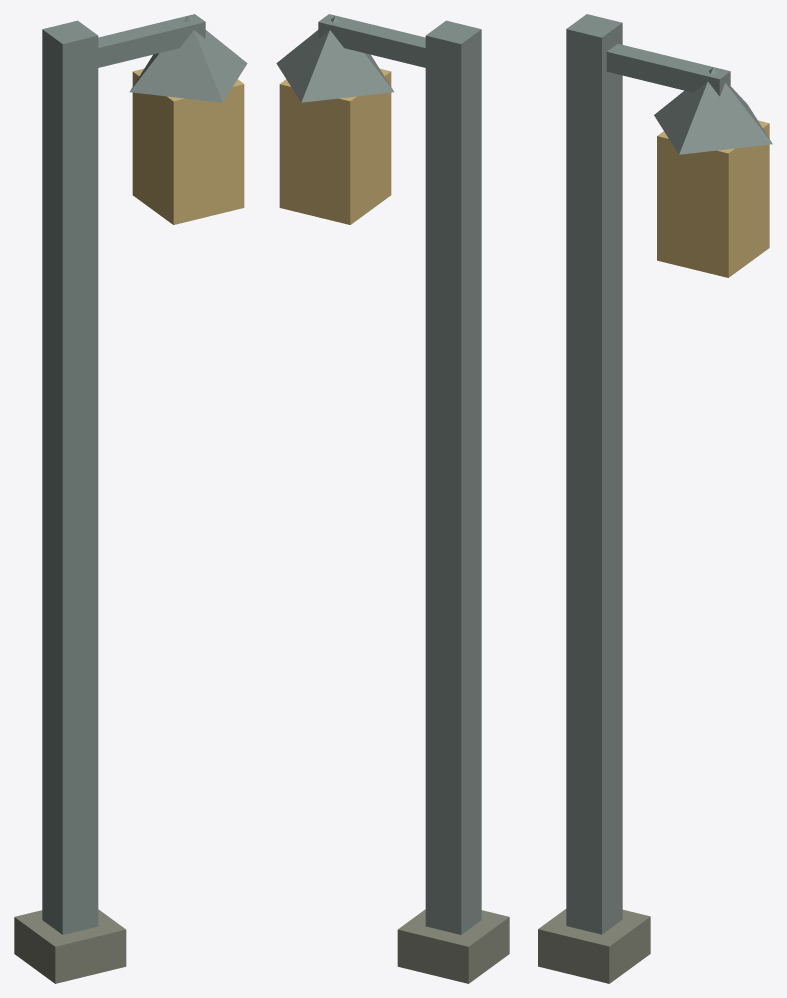
The model's file is capital-lamp.glb.
The picture shows the model from 3 angles, left to right: view 1: azimuth 30°, elevation 25°; view 2: azimuth 150°, elevation 25°; view 3: azimuth 330°, elevation 25°; orthographic projection.
Parts seen in each view (by area): view 1: Building; view 2: Building; view 3: Building.
Part boxes in pixels (bbox=[...]): Building: bbox=[14, 14, 247, 983]; Building: bbox=[276, 14, 509, 983]; Building: bbox=[538, 14, 772, 983].
Bounding box in the file's own units: 18 × 75 × 10.
